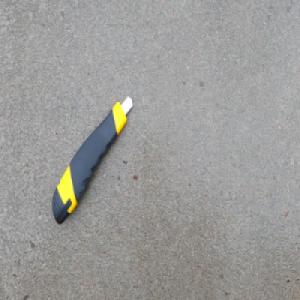Cutter: (52, 93, 134, 224)
